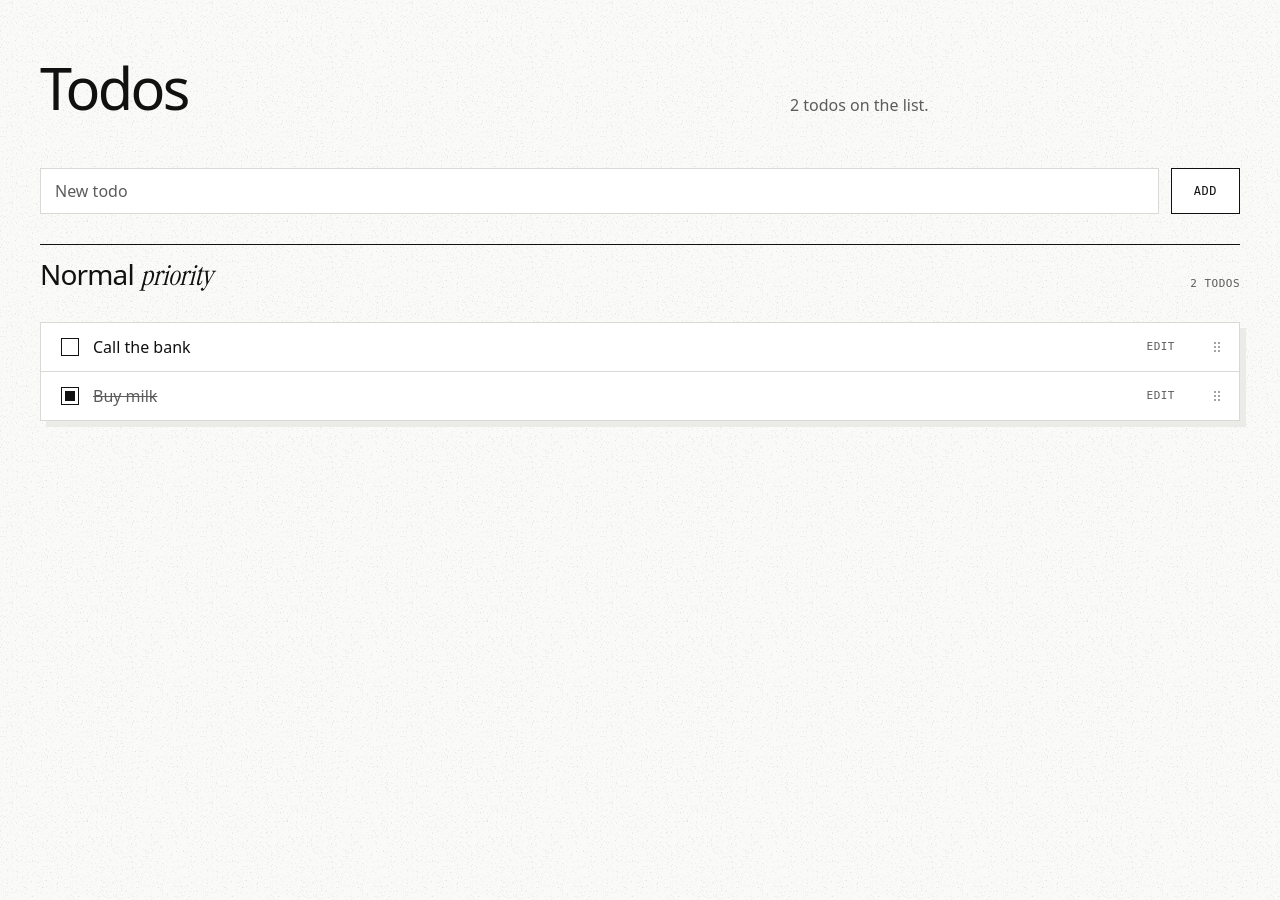
Scenario: ticks a todo from its box or its title, and unticks it
Expected: the checkbox labelled "Buy milk" is checked, [61,388,79,406]
Click the checkbox labelled "Call the bank".
click(70, 348)  # box [61,338,79,356]
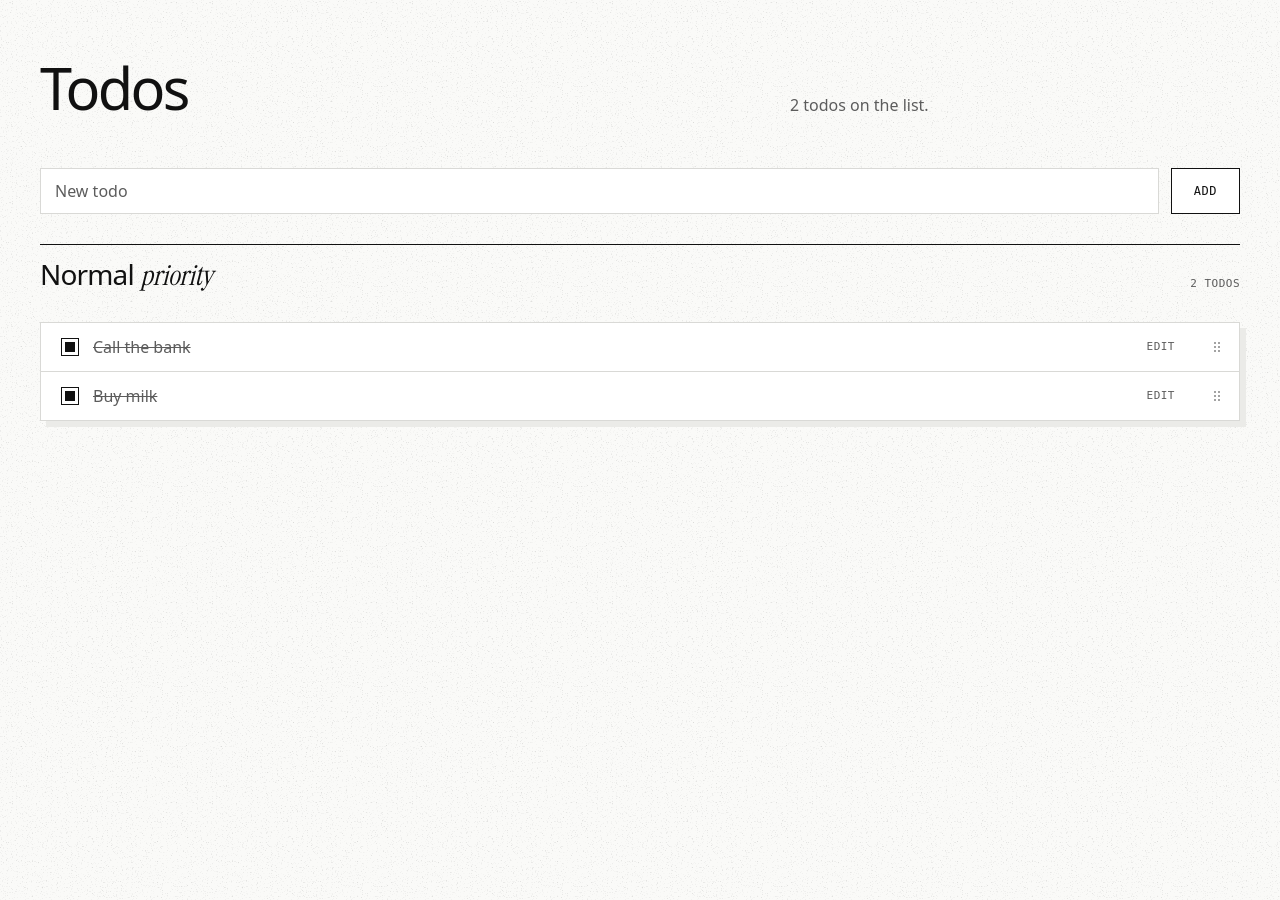
Expected: the checkbox labelled "Call the bank" is checked, [61,338,79,356]
Click the text "Buy milk".
click(125, 396)  # box [93,384,157,408]
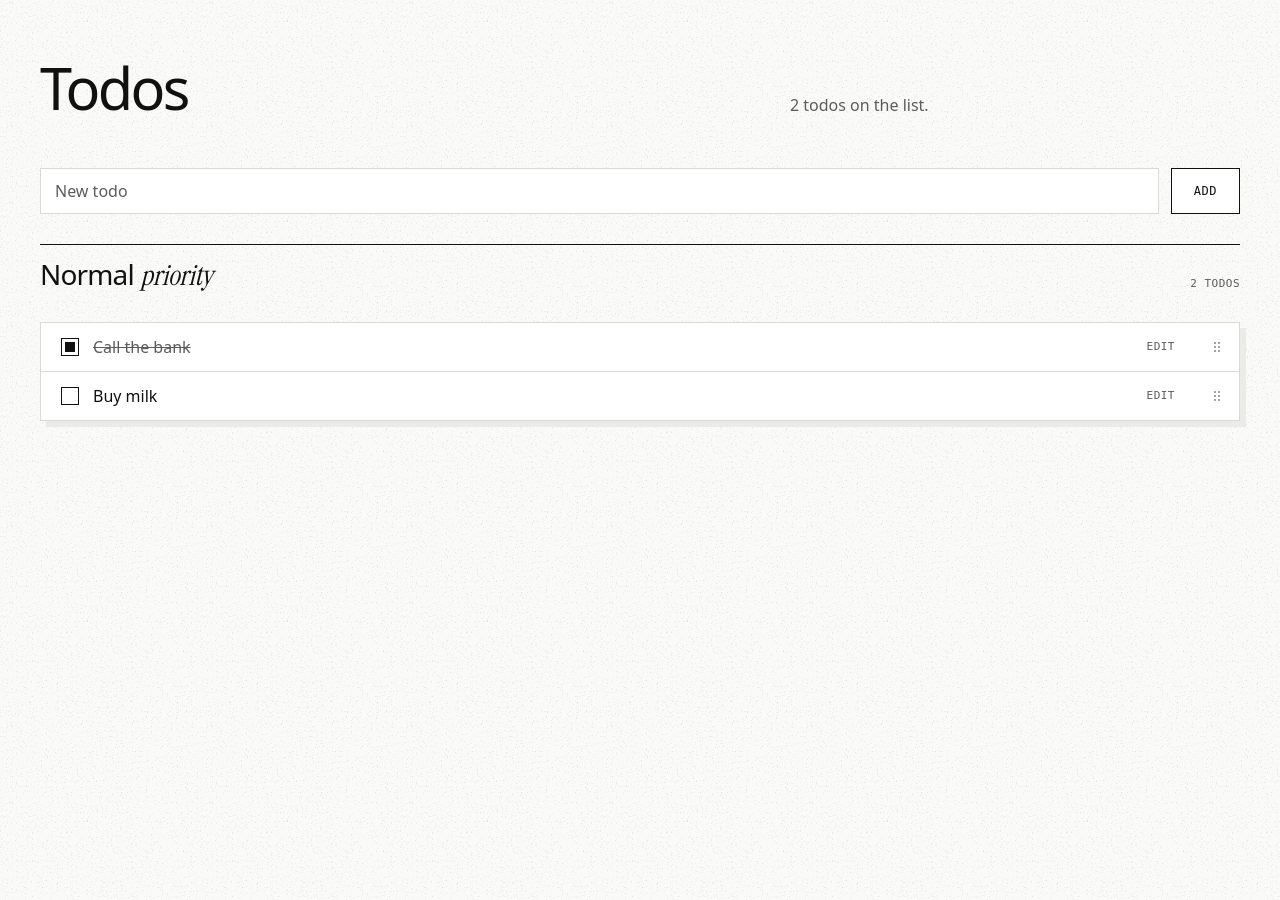
Expected: the checkbox labelled "Call the bank" is checked, [61,338,79,356]
Expected: the checkbox labelled "Buy milk" is not checked, [61,388,79,406]
